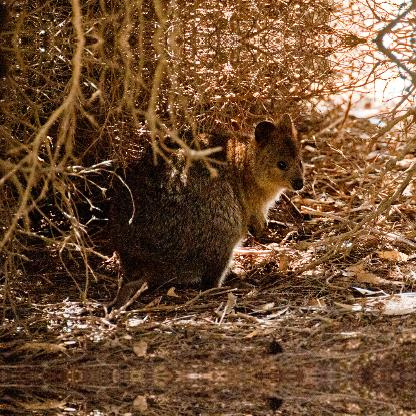Squirrel: (86, 103, 304, 305)
